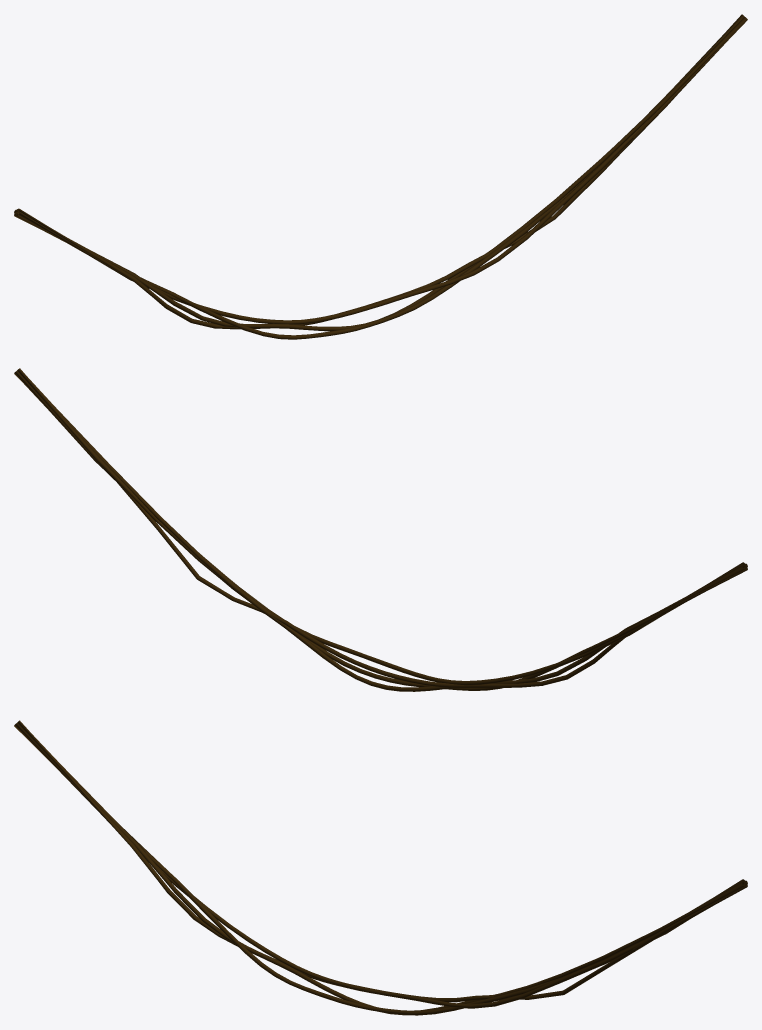
The model's file is SM_Vines04.fbx.
3 views of the same model, one above another, from view 1: azimuth 30°, elevation 25°; view 2: azimuth 150°, elevation 25°; view 3: azimuth 330°, elevation 25° (orthographic).
Visible parts, largest first — view 1: Vine04; view 2: Vine04; view 3: Vine04.
Part boxes in pixels (box(x1,y1,x2,y2)): Vine04: box(14, 14, 747, 339); Vine04: box(14, 368, 747, 691); Vine04: box(14, 720, 747, 1015).
Size of the model in its own units: 1466 by 39.79 by 433.
